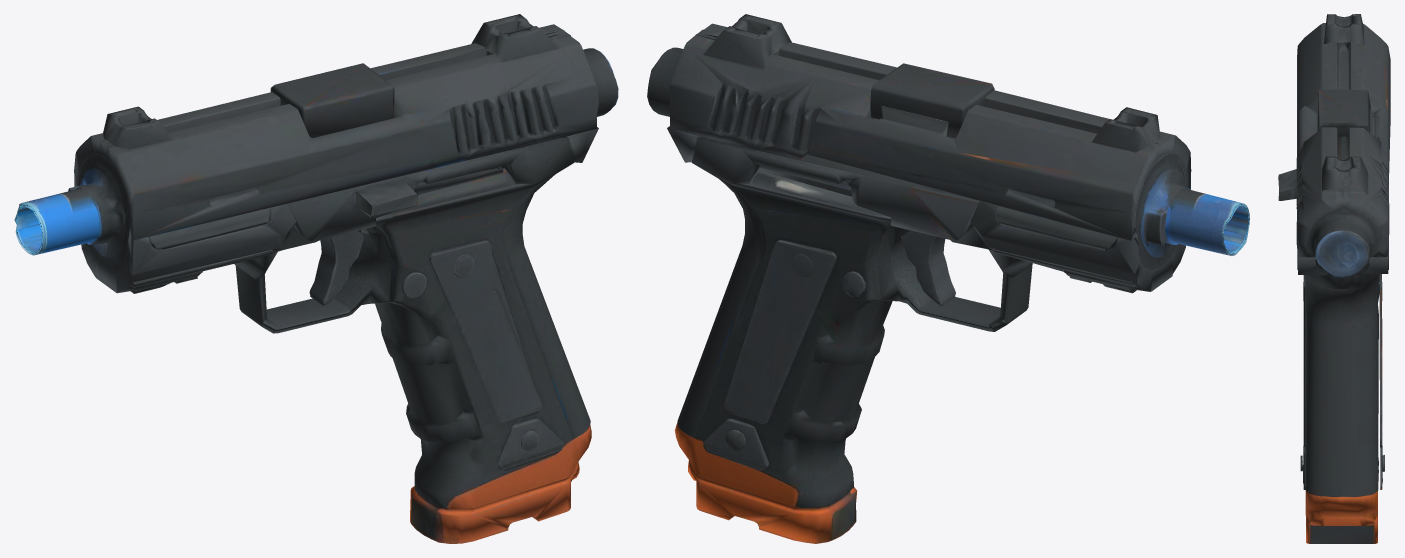
Rendered from w_welder.glb.
3 renders of one model, left to right at view 1: azimuth 30°, elevation 25°; view 2: azimuth 150°, elevation 25°; view 3: azimuth 270°, elevation 25°, orthographic. The views are drawn at different scales.
Size of the model in its own units: 0.9575 by 0.7705 by 0.2095.
1 material, 1 textured.
